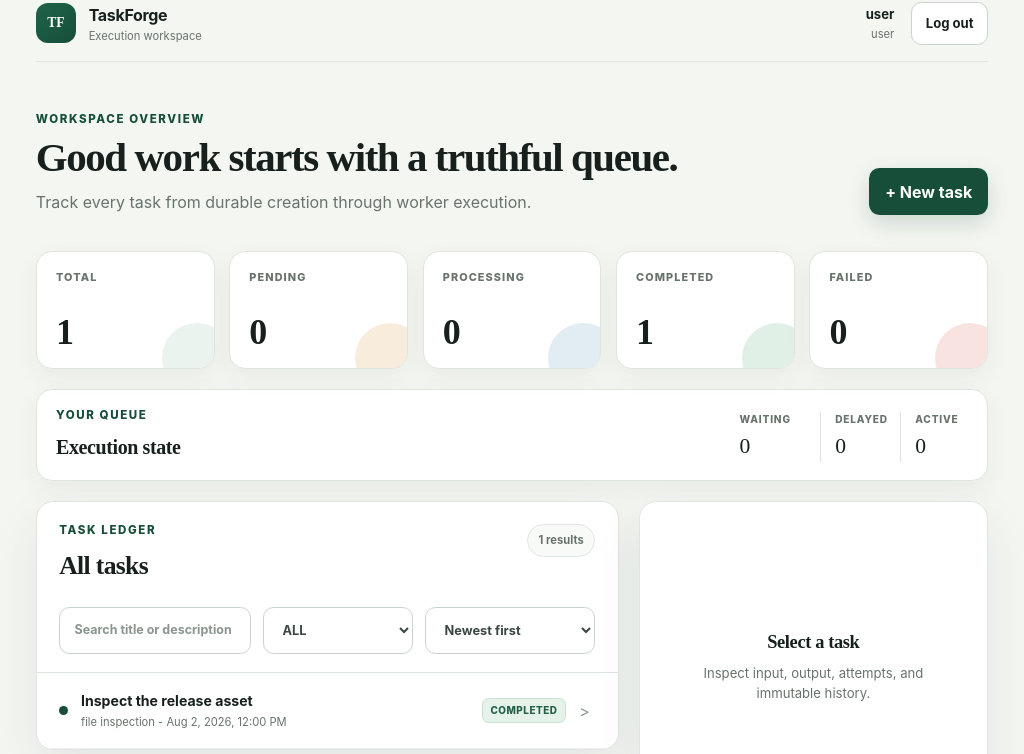
Test case: Task workspace › presents file results in a table and keeps the raw payload collapsed
Click the button "Inspect the release asset": (167, 701) 37,673 -> 618,749
(page scrolled)
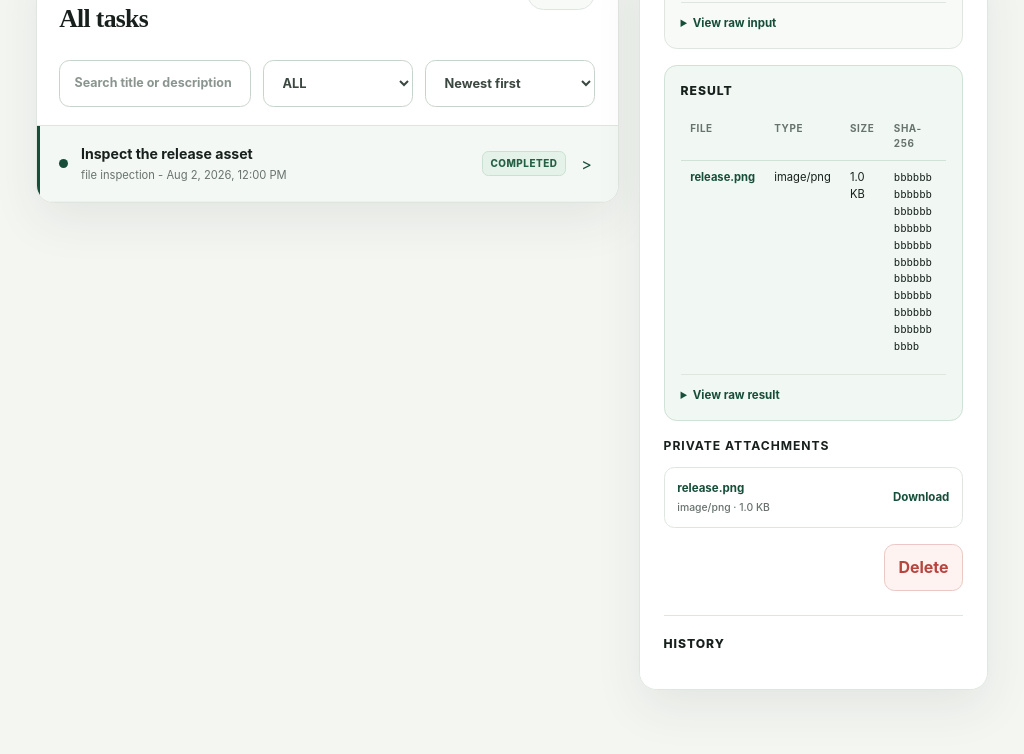
Expected: the table is shown, 680,112 -> 946,363
Expected: the column heading "release.png" is shown, 680,160 -> 765,363
Expected: the heading "View raw input" is shown, 680,15 -> 776,32
